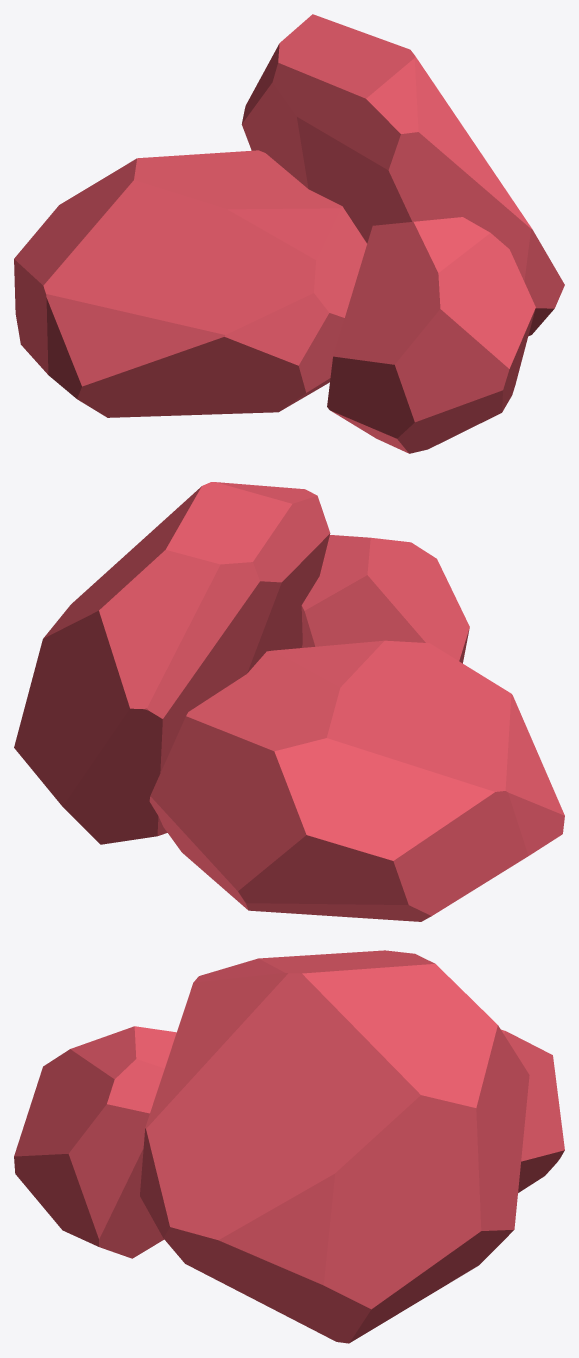
File: RockType2 02.fbx
3 renders of one model, top to bottom at view 1: azimuth 30°, elevation 25°; view 2: azimuth 150°, elevation 25°; view 3: azimuth 270°, elevation 25°, orthographic. The views are drawn at different scales.
Parts seen in each view (by area): view 1: Rock Type2 02 mesh; view 2: Rock Type2 02 mesh; view 3: Rock Type2 02 mesh.
Boxes of the visible parts, x1=… form: Rock Type2 02 mesh: x1=14, y1=14, x2=564, y2=453; Rock Type2 02 mesh: x1=14, y1=482, x2=564, y2=921; Rock Type2 02 mesh: x1=14, y1=950, x2=564, y2=1343.
Size of the model in its own units: 181 by 126 by 188.
